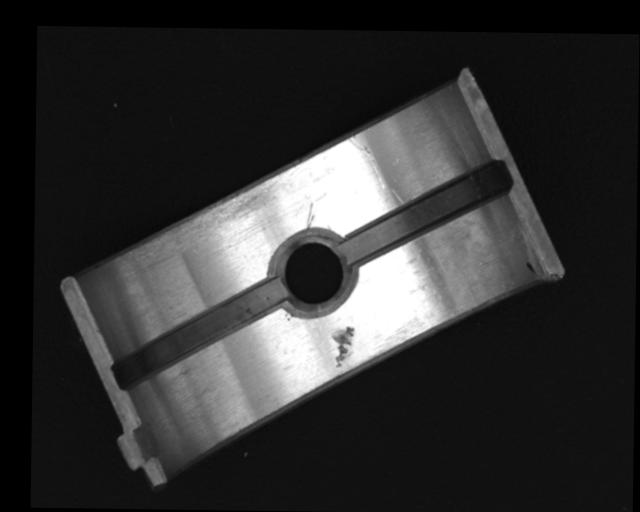blot: (524, 261, 540, 277)
bruise: (333, 325, 355, 368)
gap: (114, 275, 287, 389), (340, 160, 509, 264)
hole: (270, 233, 355, 315)
nick: (347, 136, 388, 192), (306, 201, 316, 229)
scratch: (126, 176, 277, 269)
